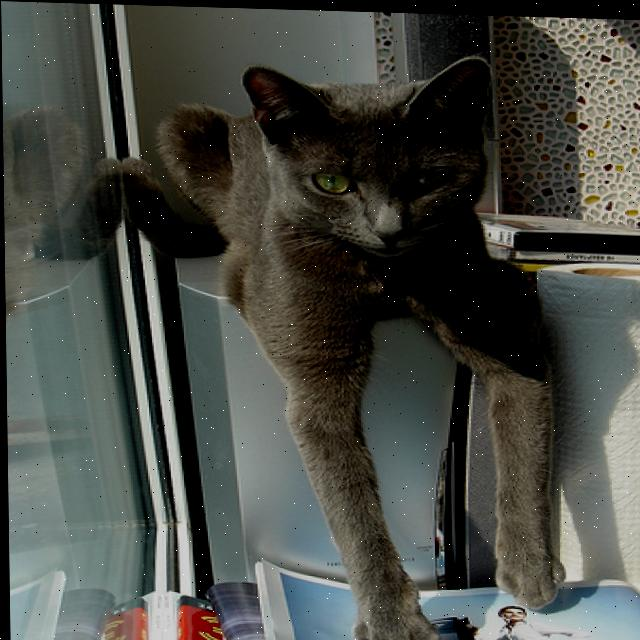Russian Blue: (105, 39, 566, 640)
